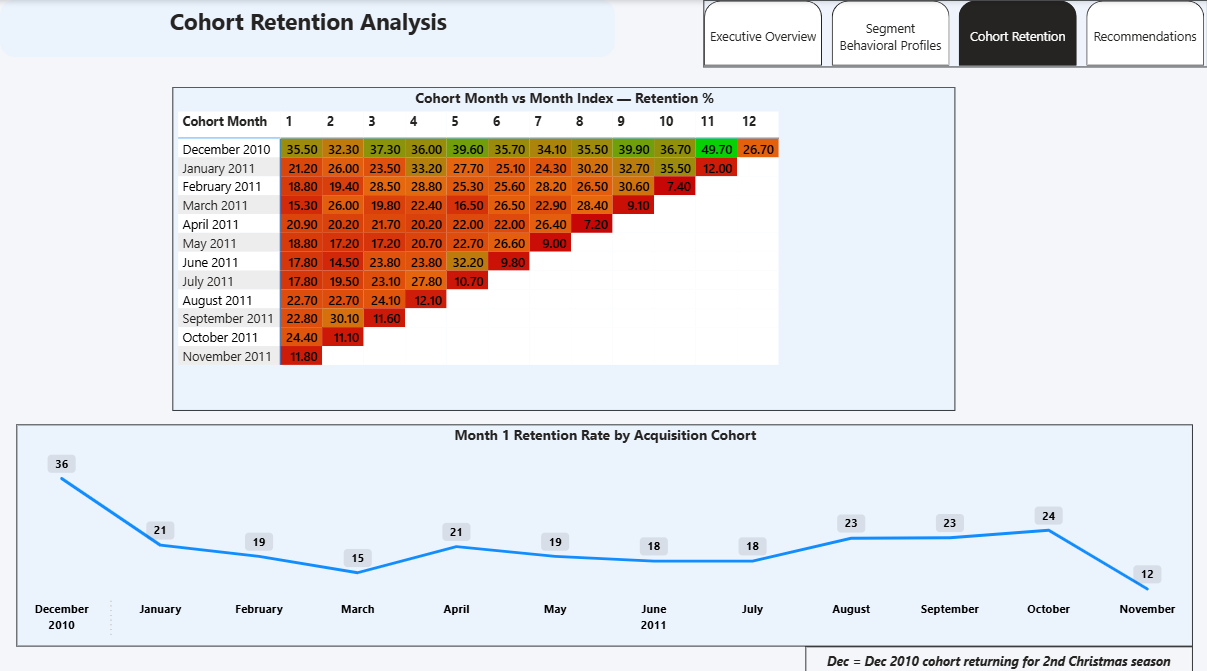

Layout of this report page (visuals, bound fields, positions):
{"tool":"powerbi","page":{"name":"Cohort Retention","canvas":[1280,720],"ordinal":2},"visuals":[{"type":"shape","box":[0,0,652.2,60.4],"z":0},{"type":"textbox","box":[0,0,653.7,71.6],"z":1000},{"type":"pivotTable","title":"Cohort Month vs Month Index — Retention %  ","fields":{"Columns":["cohort_retention.month_index"],"Values":["Sum(cohort_retention.retention_pct)"],"Rows":["cohort_retention.cohort_month"]},"box":[182.9,92.3,830.3,343.6],"z":2000},{"type":"lineChart","title":"Month 1 Retention Rate by Acquisition Cohort","fields":{"Y":["Sum(cohort_retention.retention_pct)"],"Category":["cohort_retention.cohort_month.Variation.Date Hierarchy.Year","cohort_retention.cohort_month.Variation.Date Hierarchy.Month"]},"box":[17.5,450.1,1247,235.4],"z":3000},{"type":"textbox","box":[854.2,685.6,410.4,31.8],"z":5000},{"type":"pageNavigator","box":[745.6,0,534.4,71.6],"z":5001}]}

Visuals, with their boxes in screenshot pixels (x1, y1, x2, y2), scaled from the page's 1280x720 canvas onto the 1207x671 screenshot:
shape: 0, 0, 615, 56
textbox: 0, 0, 616, 67
"Cohort Month vs Month Index — Retention %  " pivotTable: 172, 86, 955, 406
"Month 1 Retention Rate by Acquisition Cohort" lineChart: 17, 419, 1192, 639
textbox: 805, 639, 1192, 669
pageNavigator: 703, 0, 1206, 67
